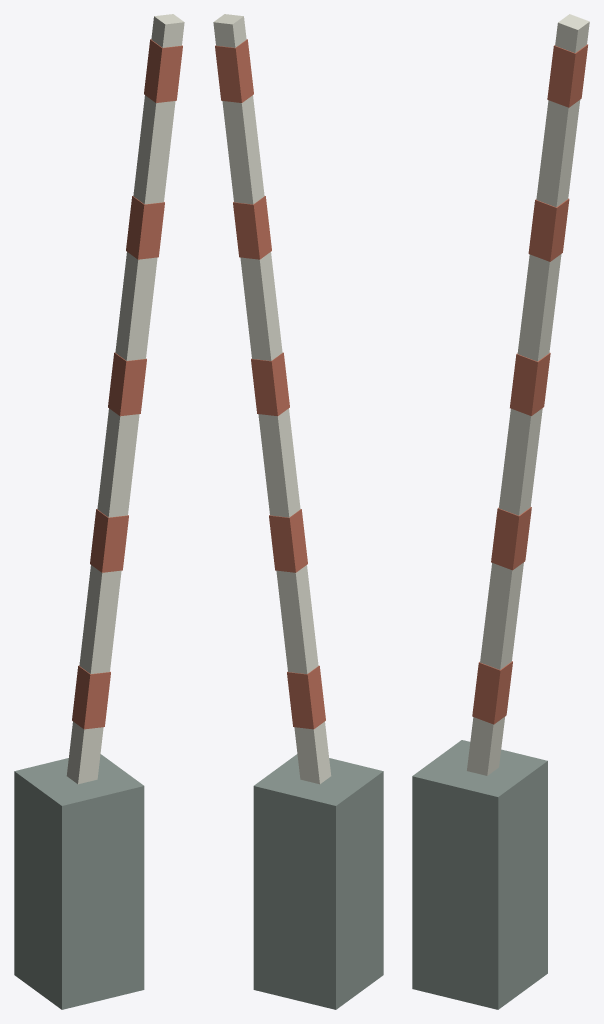
Rendered from raised_barrier.glb.
The picture shows the model from 3 angles, left to right: view 1: azimuth 30°, elevation 25°; view 2: azimuth 150°, elevation 25°; view 3: azimuth 330°, elevation 25°; orthographic projection. The views are drawn at different scales.
Parts seen in each view (by area): view 1: raised_barrier; view 2: raised_barrier; view 3: raised_barrier.
Boxes of the visible parts, bbox=[...] form: raised_barrier: bbox=[14, 14, 184, 1009]; raised_barrier: bbox=[213, 14, 383, 1009]; raised_barrier: bbox=[412, 14, 589, 1009].
Size of the model in its own units: 0.9395 by 6.01 by 0.55.
